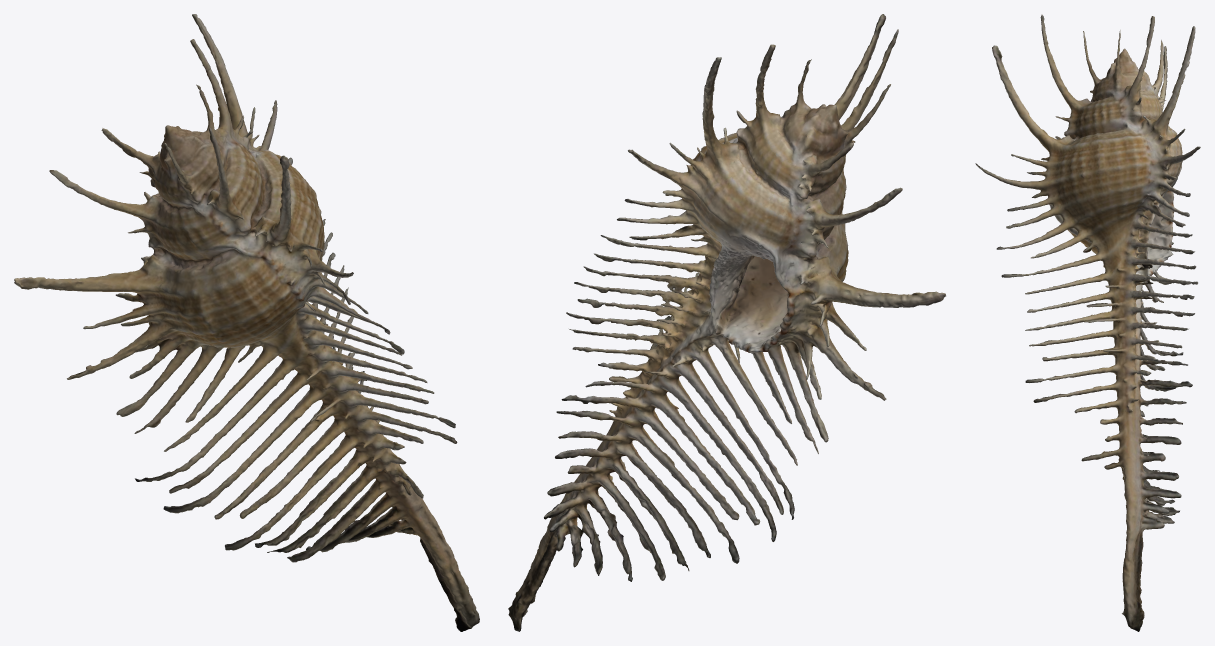
File: murex.glb
3 renders of one model, left to right at view 1: azimuth 30°, elevation 25°; view 2: azimuth 150°, elevation 25°; view 3: azimuth 270°, elevation 25°, orthographic. The views are drawn at different scales.
Bounding box in the file's own units: 0.1005 × 0.1392 × 0.0552.
Materials: 1 (1 with a texture image).
